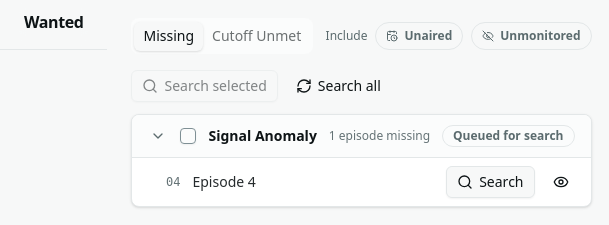
collapses a group to its header
Expected: the text "Episode 4" is shown, left=192, top=172, right=256, bottom=191
Click the button named "Collapse Signal Anomaly".
click(158, 136)  # box left=148, top=126, right=168, bottom=146
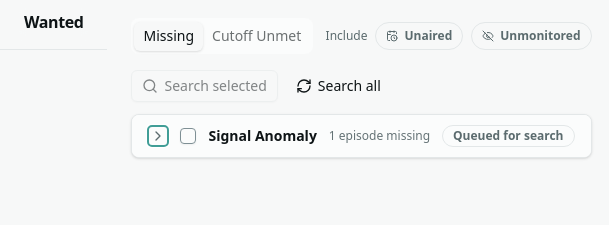
Expected: the text "1 episode missing" is shown, left=329, top=128, right=430, bottom=144
Expected: the text "Episode 4" is gone
The accessible name follows the collapsed state rather than contradicting it.
Click the button named "Expand Signal Anomaly".
click(158, 136)  # box left=148, top=126, right=168, bottom=146
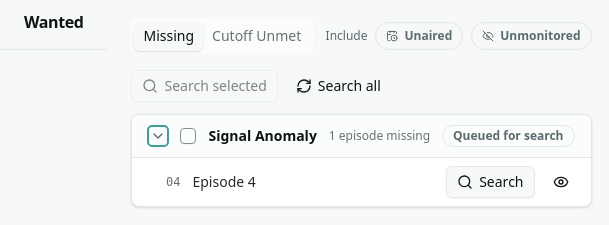
Expected: the text "Episode 4" is shown, left=192, top=172, right=256, bottom=191
